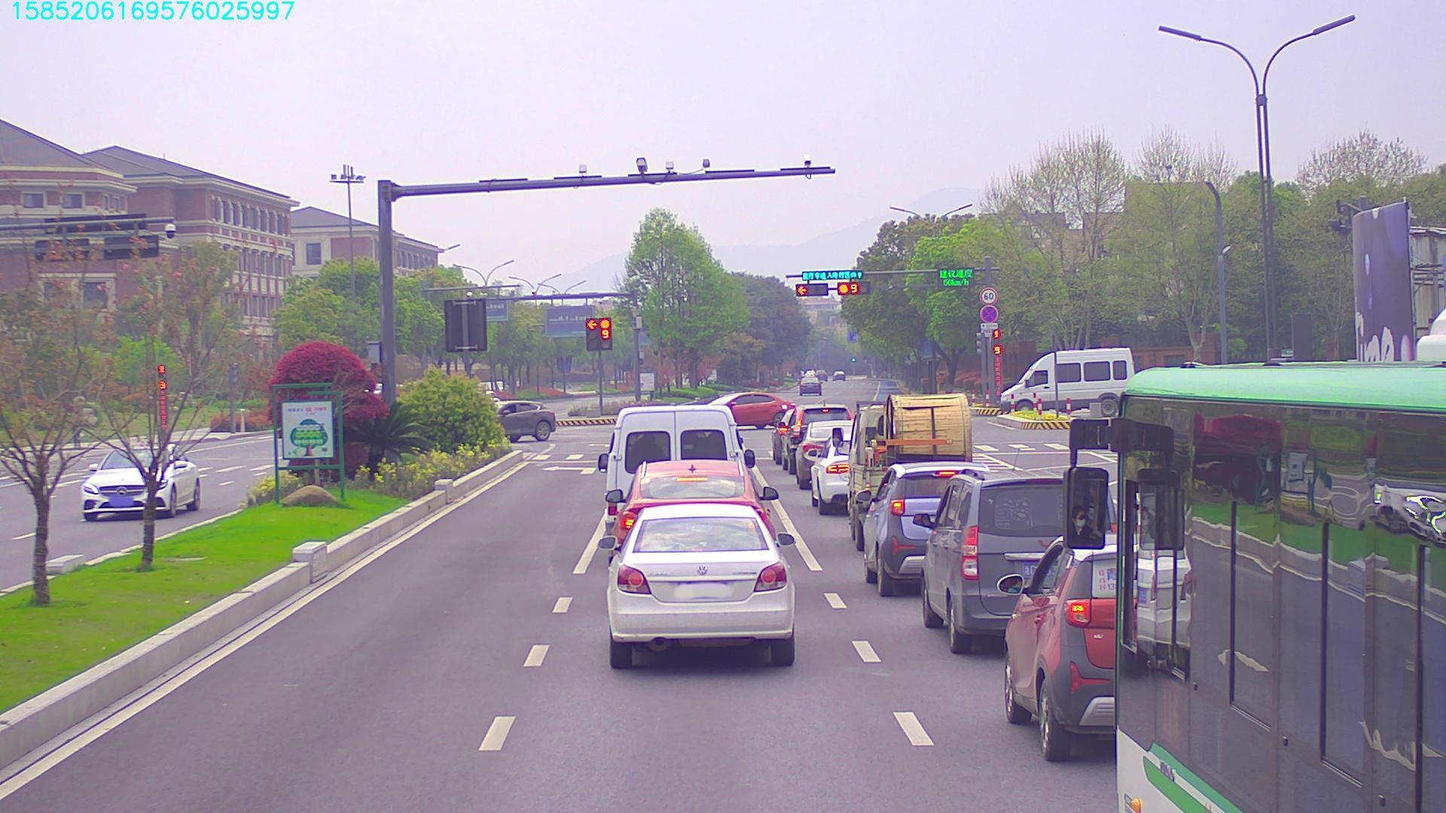red: (797, 282, 831, 300), (837, 280, 877, 293)
wait_on: (804, 269, 864, 280)
